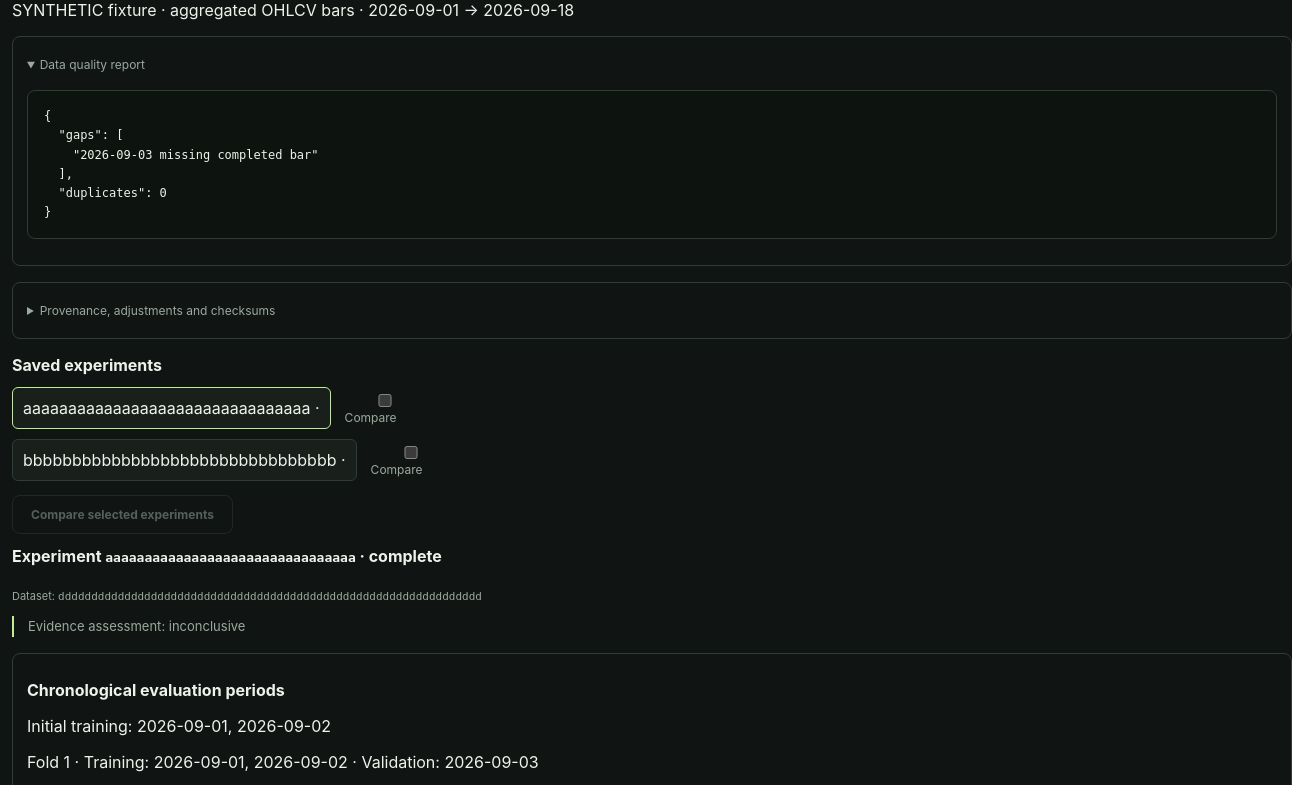
keeps recorded evidence visible after polling and strict-comparison failures
(page scrolled)
Expected: the text "Evidence assessment: inconclusive" is shown, x1=12 y1=616 x2=1291 y2=637
Click the 1st checkbox labelled "Compare" at (385, 401), box x1=349 y1=394 x2=421 y2=407
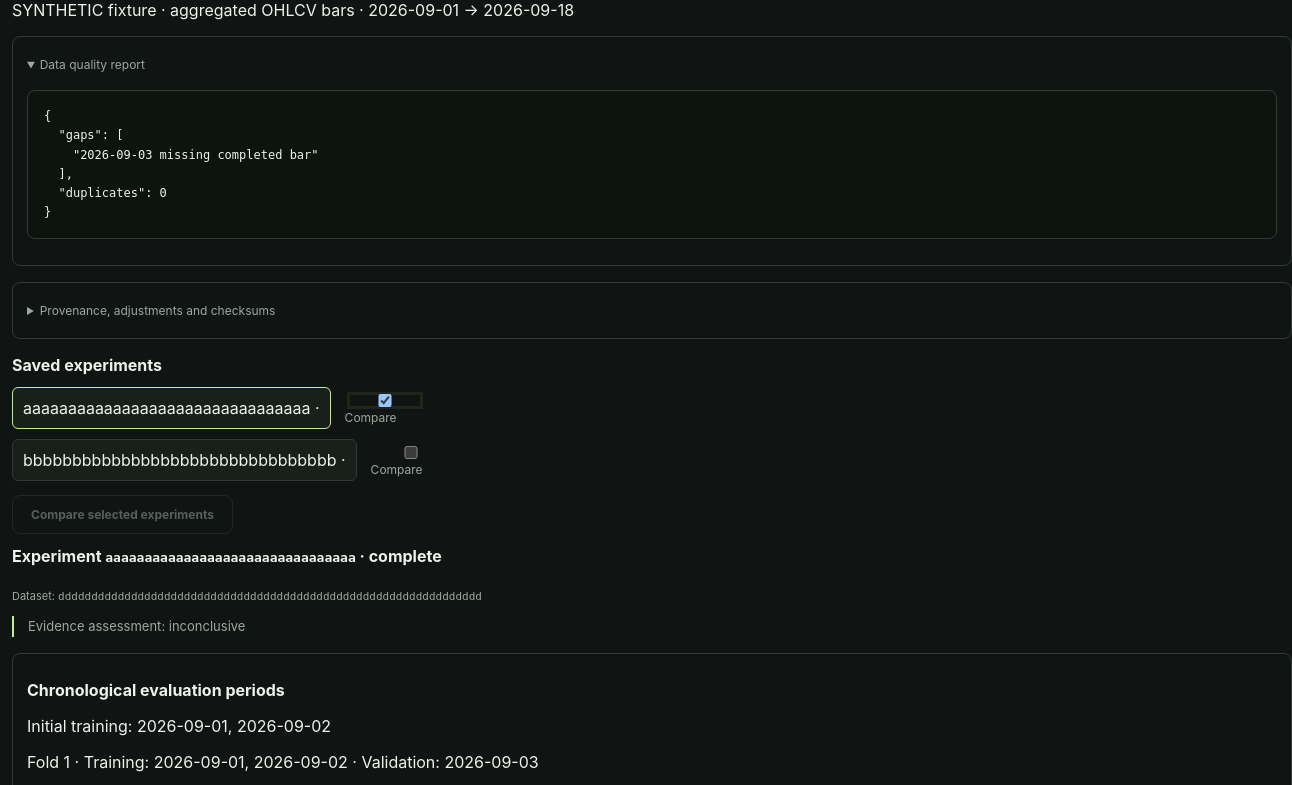
Click the 2nd checkbox labelled "Compare" at (411, 453), box x1=375 y1=446 x2=447 y2=459
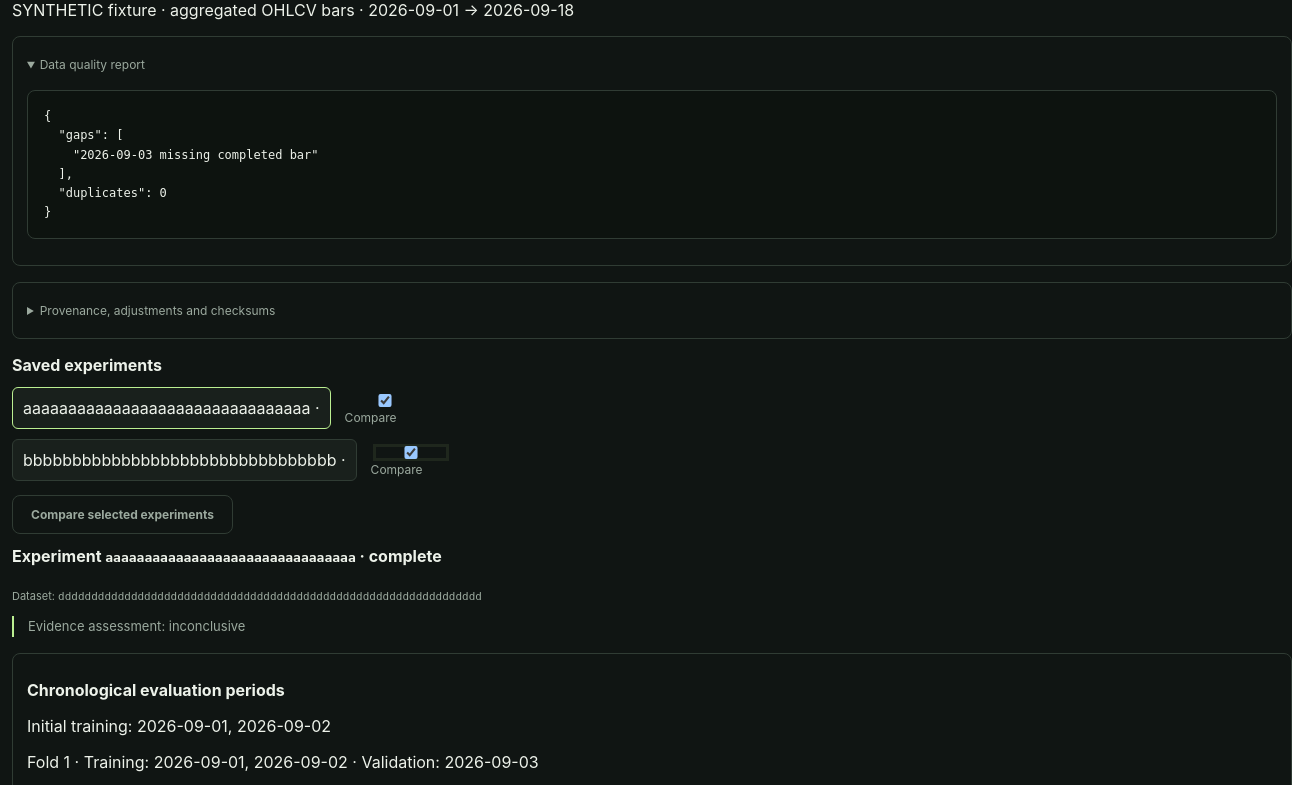
Click the button "Compare selected experiments" at (122, 515), box x1=12 y1=495 x2=233 y2=534
(page scrolled)
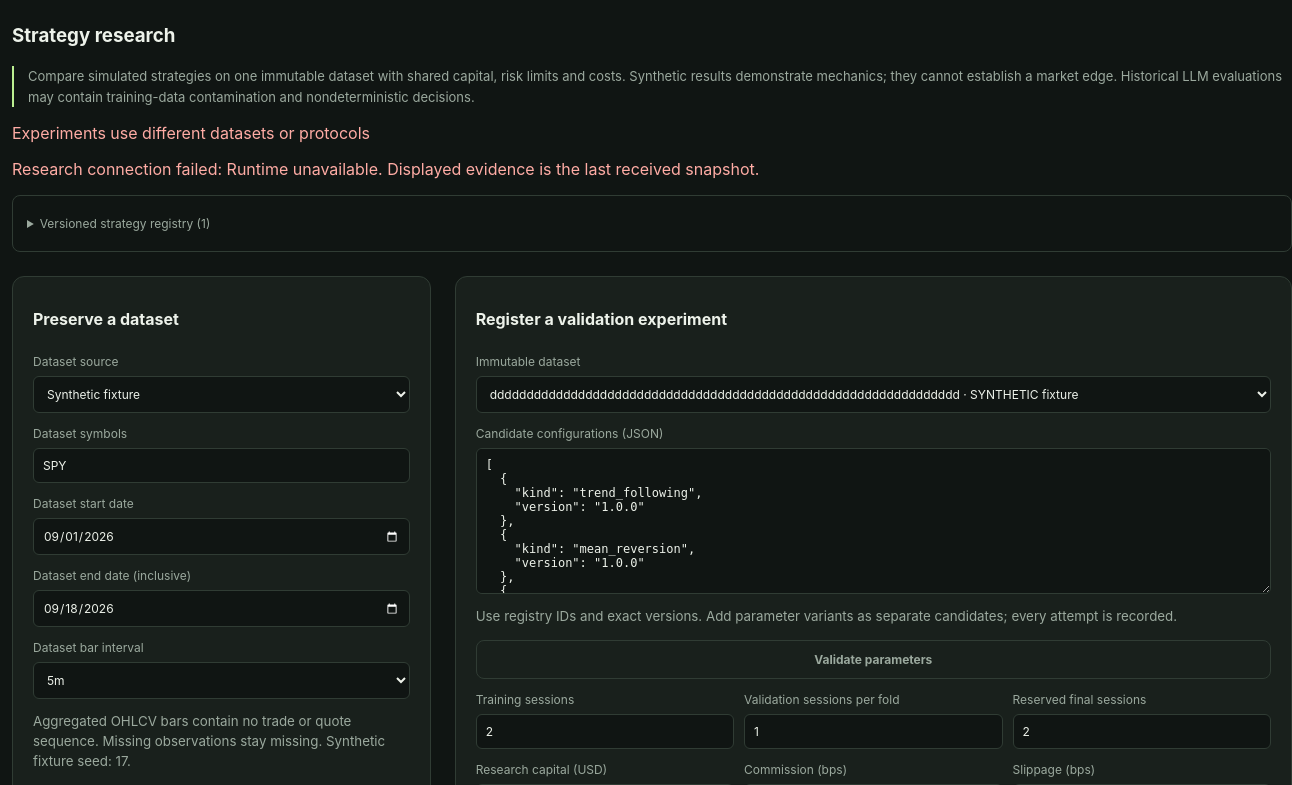
Now the message "Experiments use different datasets or protocols" is shown, box x1=12 y1=123 x2=370 y2=143
Now the text "Displayed evidence is the last received snapshot" is shown, box x1=378 y1=159 x2=759 y2=179
